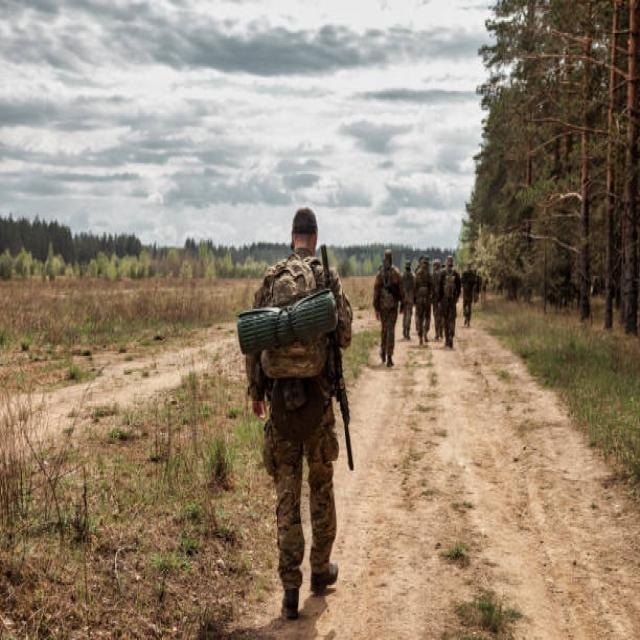Forest: (1, 0, 640, 640)
Militant: (230, 160, 361, 614), (358, 226, 416, 380), (404, 238, 442, 380), (436, 226, 475, 344)
